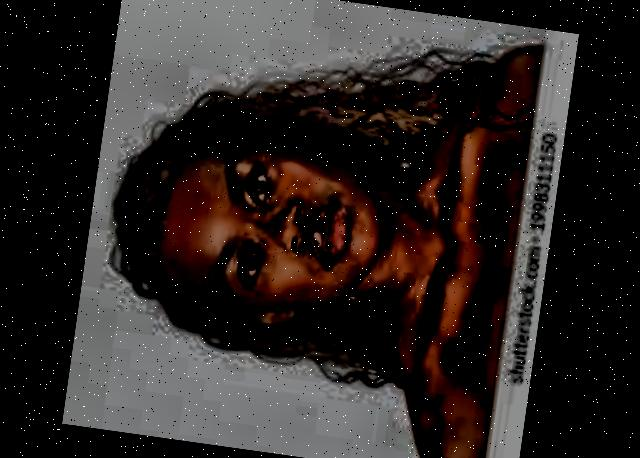neutral: (131, 129, 416, 348)
